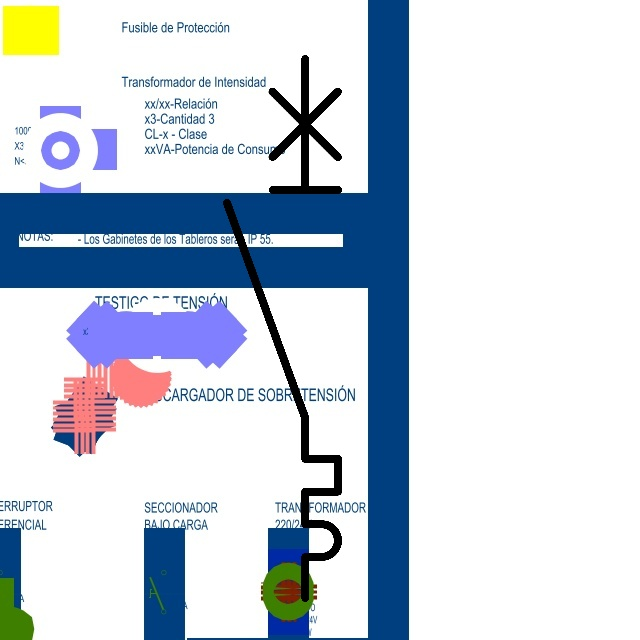interruptor_termomagnetico: (213, 45, 352, 612)
